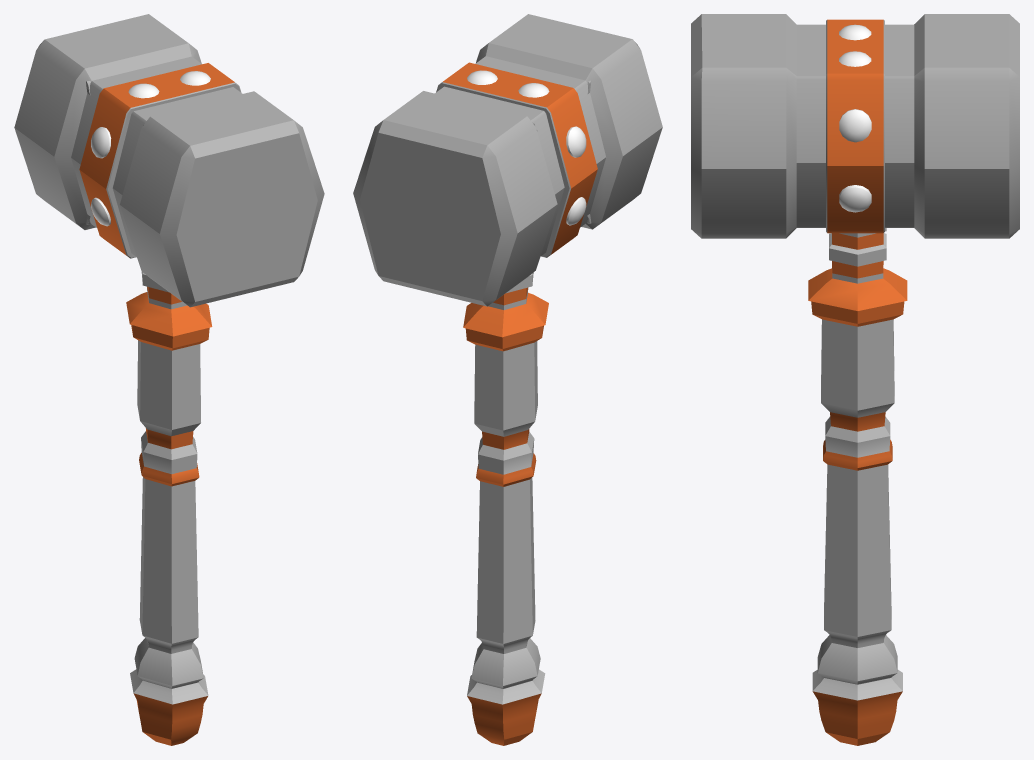
3 renders of one model, left to right at view 1: azimuth 30°, elevation 25°; view 2: azimuth 150°, elevation 25°; view 3: azimuth 270°, elevation 25°, orthographic. The views are drawn at different scales.
Parts seen in each view (by area): view 1: Cylinder.010; view 2: Cylinder.010; view 3: Cylinder.010.
Part boxes in pixels (<box>): Cylinder.010: <box>14,14,324,745</box>; Cylinder.010: <box>353,14,662,745</box>; Cylinder.010: <box>691,14,1019,745</box>.
Size of the model in its own units: 170 by 651 by 278.
